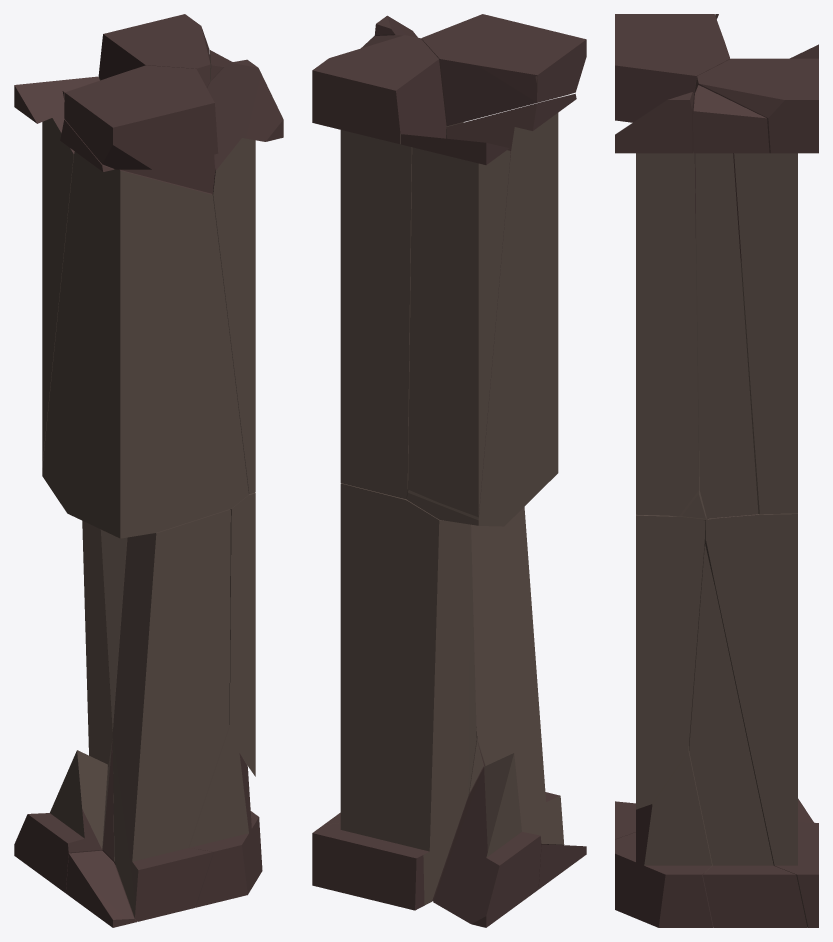
The model's file is Pillar.fbx.
The picture shows the model from 3 angles, left to right: view 1: azimuth 30°, elevation 25°; view 2: azimuth 150°, elevation 25°; view 3: azimuth 270°, elevation 25°; orthographic projection. The views are drawn at different scales.
Parts seen in each view (by area): view 1: Pillar; view 2: Pillar; view 3: Pillar.
Part boxes in pixels (box(x1,y1,x2,y2)): Pillar: box(14, 14, 283, 927); Pillar: box(312, 14, 586, 927); Pillar: box(615, 14, 818, 927).
Size of the model in its own units: 132 by 593 by 132.
